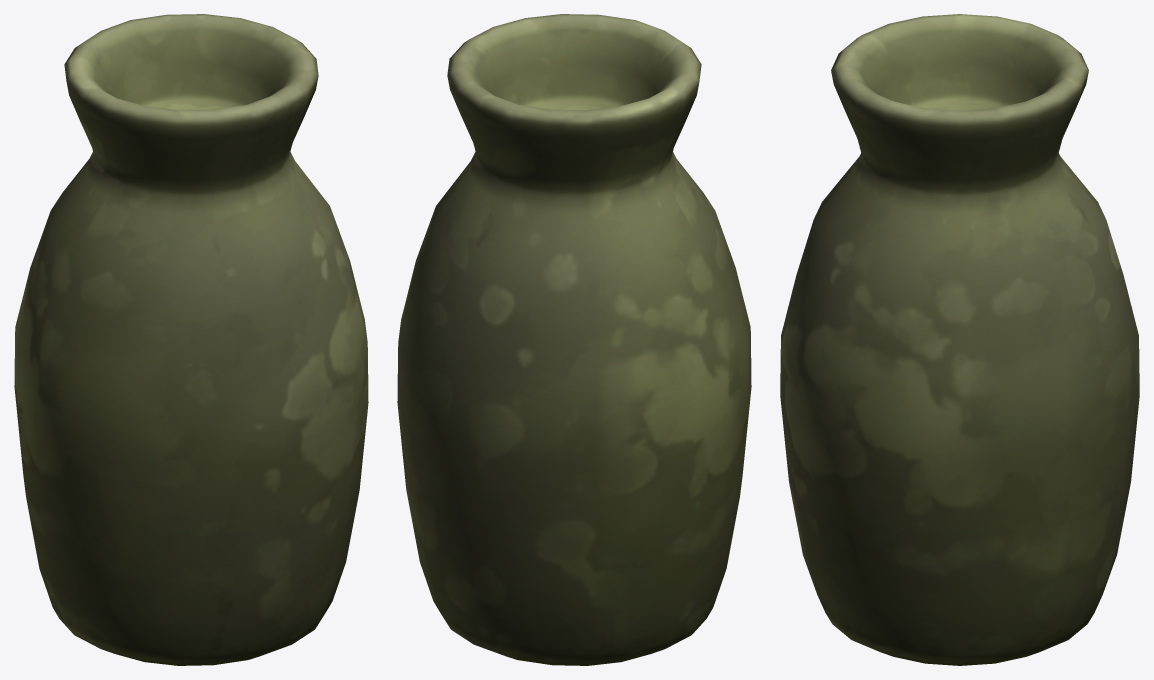
The model's file is SM_Vase_04.fbx.
The picture shows the model from 3 angles, left to right: view 1: azimuth 30°, elevation 25°; view 2: azimuth 150°, elevation 25°; view 3: azimuth 270°, elevation 25°; orthographic projection.
Visible parts, largest first — view 1: SM_Vase_04_LOD0; view 2: SM_Vase_04_LOD0; view 3: SM_Vase_04_LOD0.
Part boxes in pixels (left/top/right/bottom): SM_Vase_04_LOD0: left=14, top=14, right=368, bottom=665; SM_Vase_04_LOD0: left=397, top=14, right=751, bottom=665; SM_Vase_04_LOD0: left=780, top=14, right=1139, bottom=665.
Size of the model in its own units: 32.78 by 33.15 by 56.39.
Materials: 1 (1 with a texture image).
